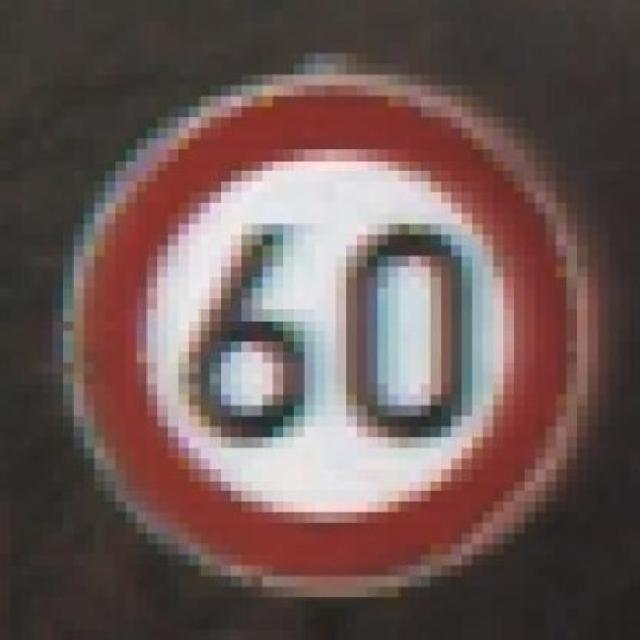forb_speed_over_60: (69, 83, 574, 589)
